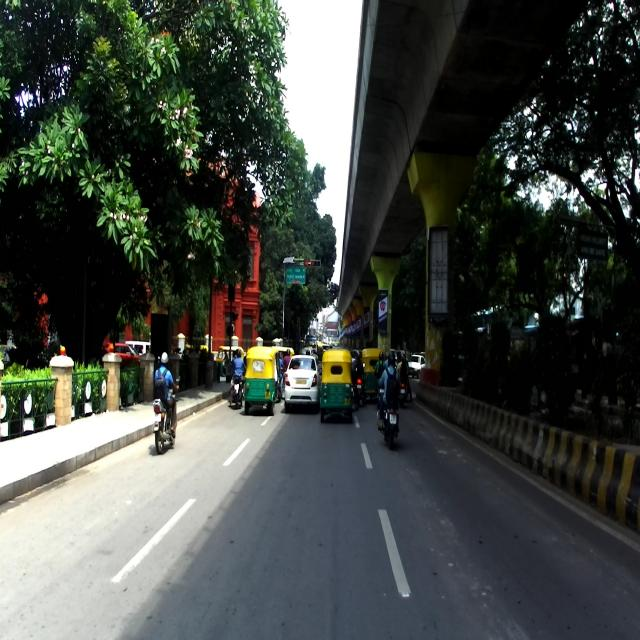autorickshaw: (319, 348, 355, 424)
car: (282, 351, 319, 413)
motorcycle: (153, 376, 181, 456), (376, 378, 404, 448)
